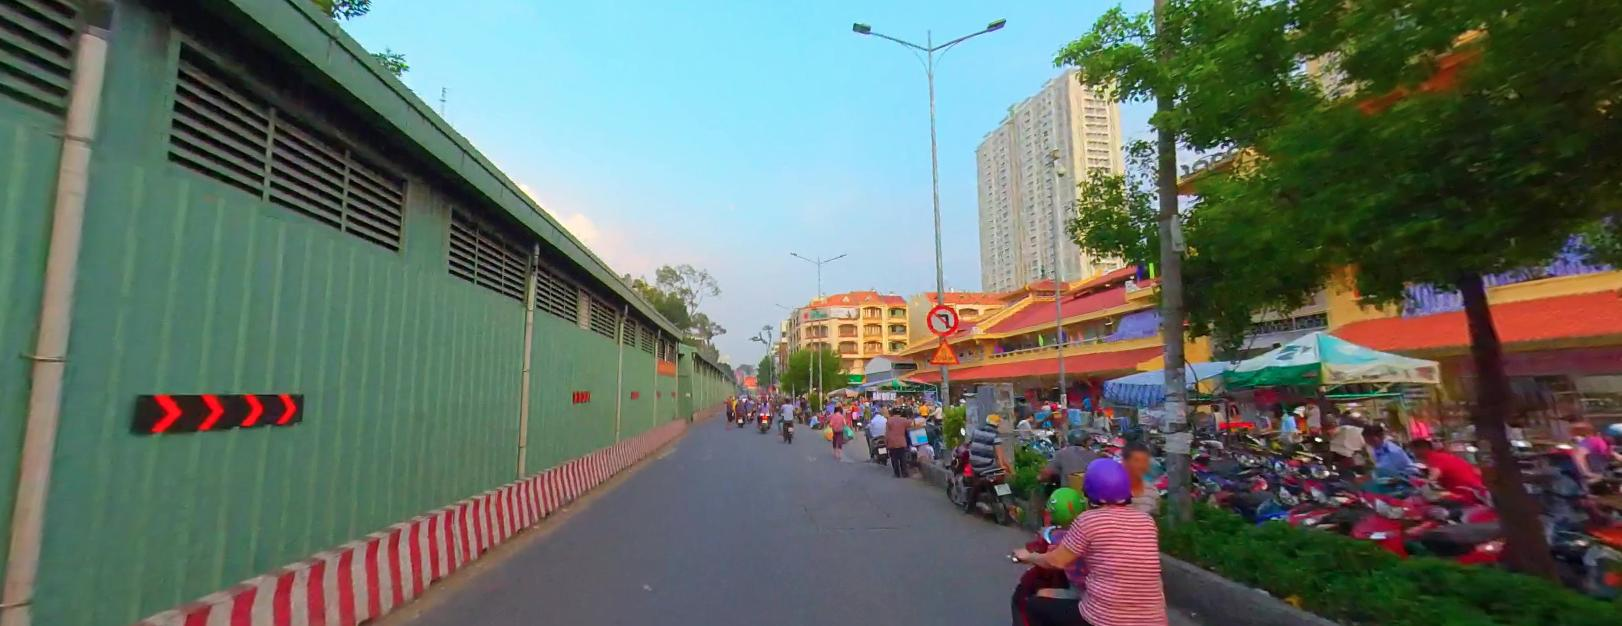Cam re: (926, 303, 959, 335)
Nguy hiem: (927, 337, 960, 363)
